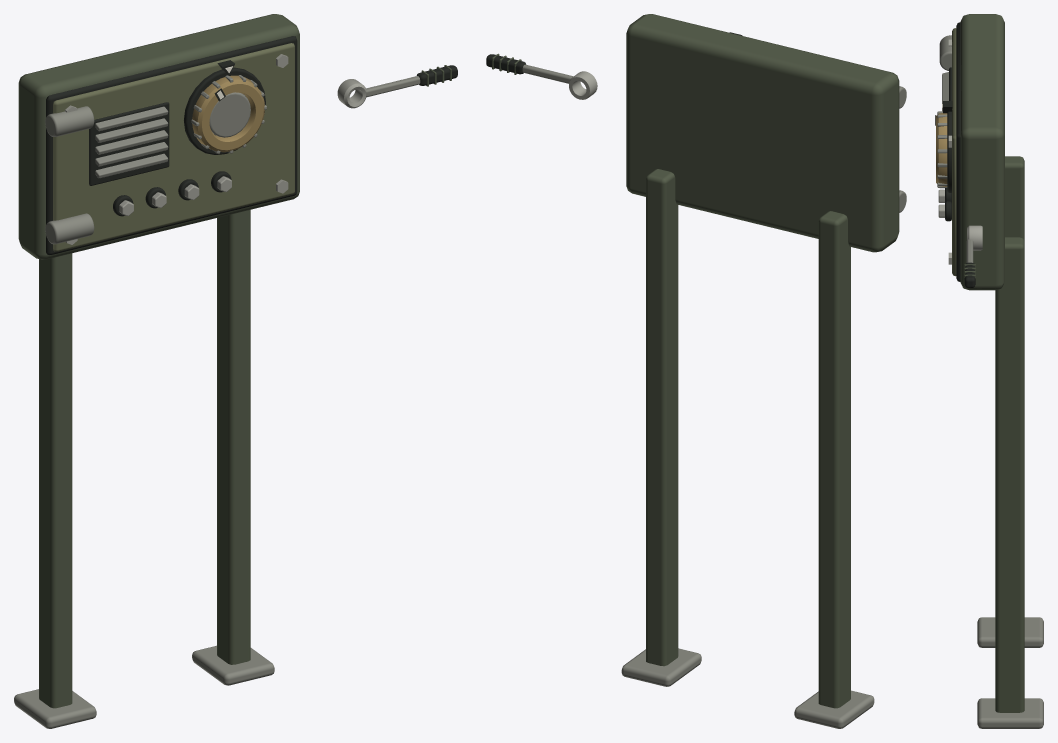
File: repair-panel.glb
3 views of the same model, side by side, from view 1: azimuth 30°, elevation 25°; view 2: azimuth 150°, elevation 25°; view 3: azimuth 270°, elevation 25° (orthographic). The views are drawn at different scales.
Visible parts, largest first — view 1: PanelCasting, RingGrip, ToolSteel; view 2: PanelCasting, ToolSteel; view 3: PanelCasting, RingGrip, ToolSteel.
Part boxes in pixels (x1=…): PanelCasting: x1=14, y1=14, x2=299, y2=728; RingGrip: x1=191, y1=75, x2=266, y2=153; ToolSteel: x1=337, y1=65, x2=457, y2=108; PanelCasting: x1=621, y1=14, x2=906, y2=728; ToolSteel: x1=486, y1=53, x2=597, y2=99; PanelCasting: x1=938, y1=14, x2=1043, y2=728; RingGrip: x1=935, y1=111, x2=947, y2=187; ToolSteel: x1=964, y1=225, x2=982, y2=287.
Size of the model in its own units: 1.16 by 1.72 by 0.2785.
